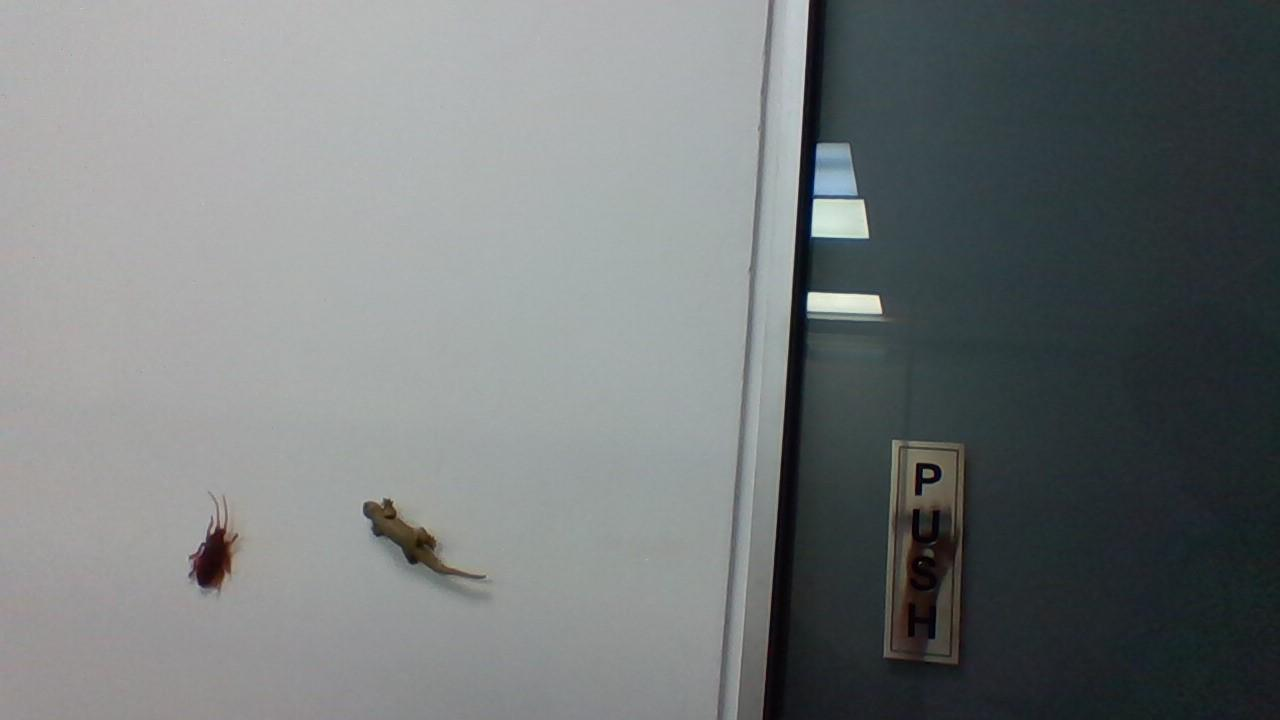cockroach: (185, 479, 249, 607)
lizard: (349, 485, 490, 591)
